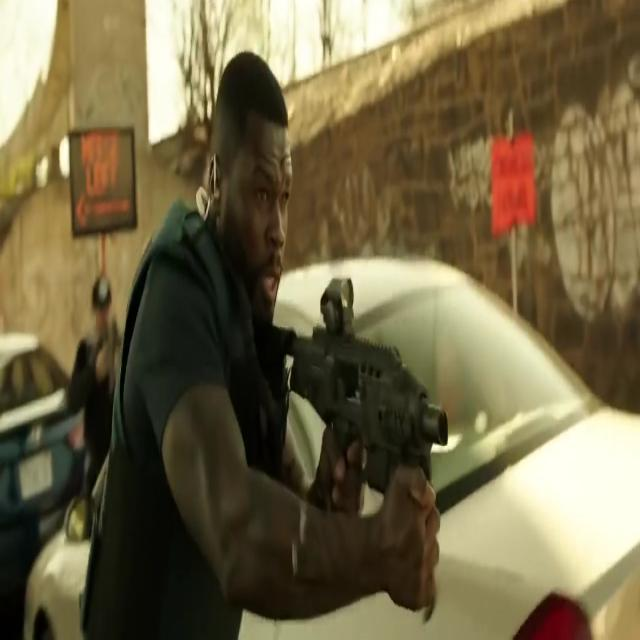Weapon: (258, 269, 486, 522), (79, 317, 149, 383)
